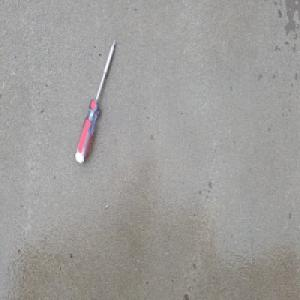Screwdriver: (74, 38, 117, 167)
